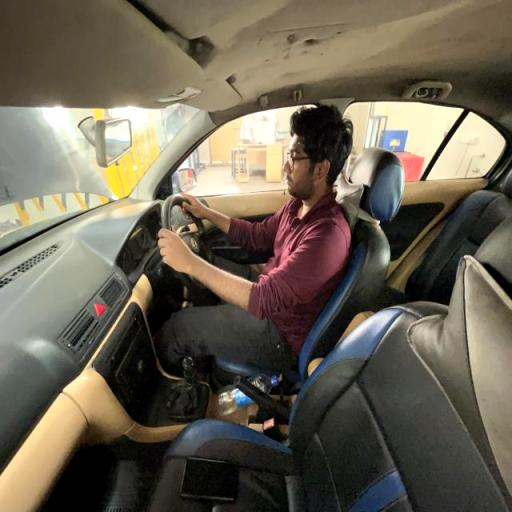Normal: (154, 105, 356, 348)
